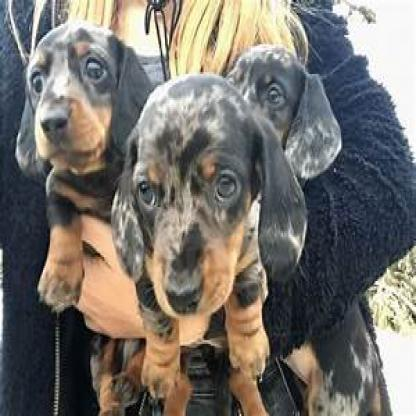dog: (112, 70, 310, 401), (16, 20, 178, 402), (223, 46, 343, 176)
